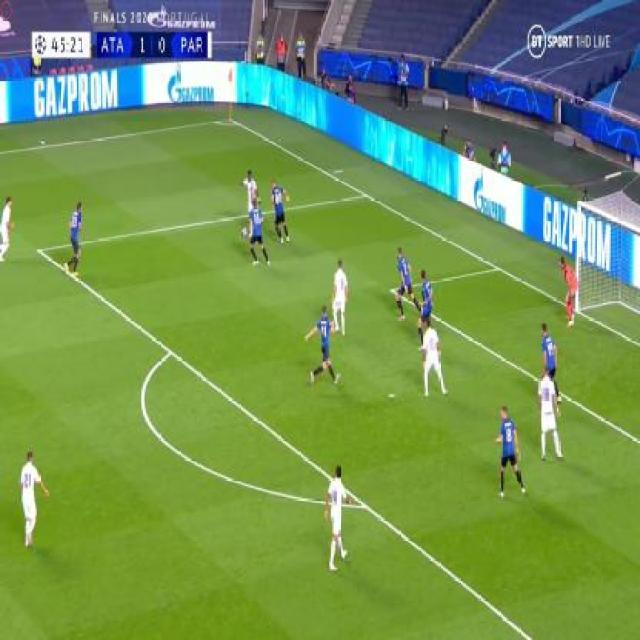ball: (241, 225, 247, 238)
player: (16, 445, 47, 548), (494, 403, 525, 500), (325, 459, 351, 570), (535, 360, 563, 463), (306, 300, 337, 386), (419, 323, 450, 400), (392, 245, 418, 322), (540, 324, 562, 410), (246, 199, 271, 270), (558, 254, 580, 330), (64, 196, 84, 278), (330, 257, 349, 339), (238, 169, 261, 234), (417, 265, 436, 341), (270, 177, 290, 246), (0, 193, 15, 262)
